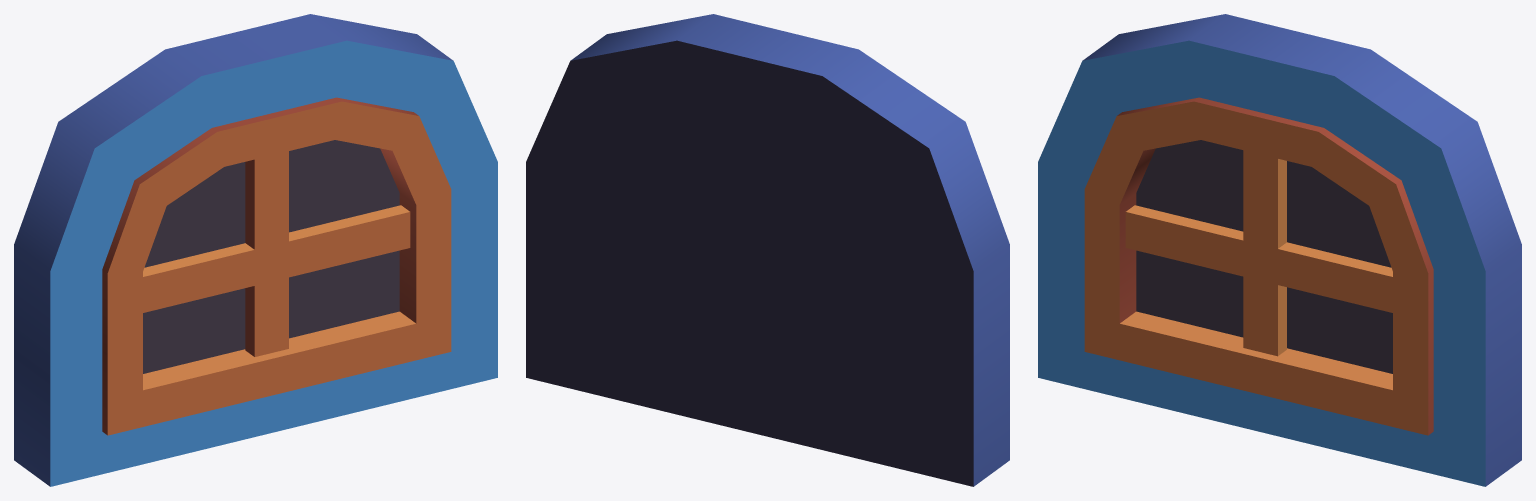
File: Window01_Blue_Wood.glb
3 renders of one model, left to right at view 1: azimuth 30°, elevation 25°; view 2: azimuth 150°, elevation 25°; view 3: azimuth 330°, elevation 25°, orthographic.
Parts seen in each view (by area): view 1: Window01_Blue_Wood; view 2: Window01_Blue_Wood; view 3: Window01_Blue_Wood.
Part boxes in pixels (box(x1,y1,x2,y2)): Window01_Blue_Wood: box(14, 14, 497, 486); Window01_Blue_Wood: box(526, 14, 1009, 486); Window01_Blue_Wood: box(1038, 14, 1521, 486).
Size of the model in its own units: 0.8998 by 0.7186 by 0.1456.
1 material, 1 textured.
